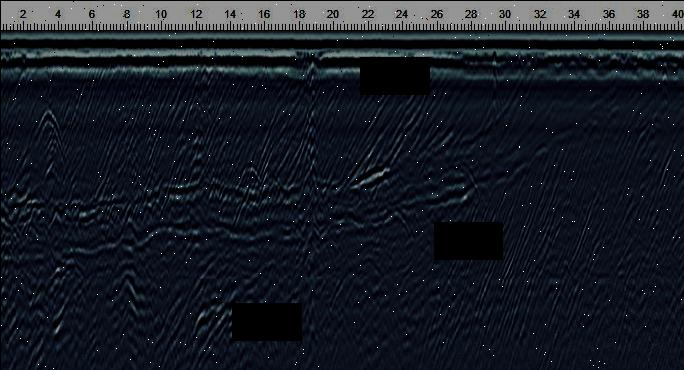Hyperbola: (13, 84, 75, 160), (178, 69, 222, 124), (652, 46, 672, 94), (391, 53, 413, 74), (482, 47, 501, 71)
